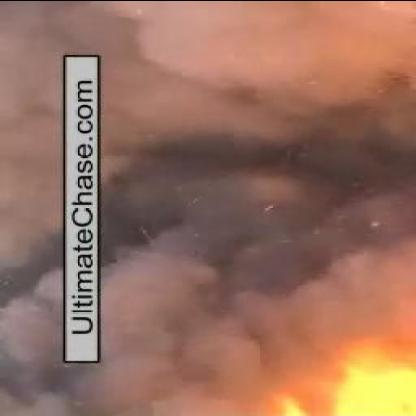-: (106, 26, 342, 396), (2, 62, 61, 378)
